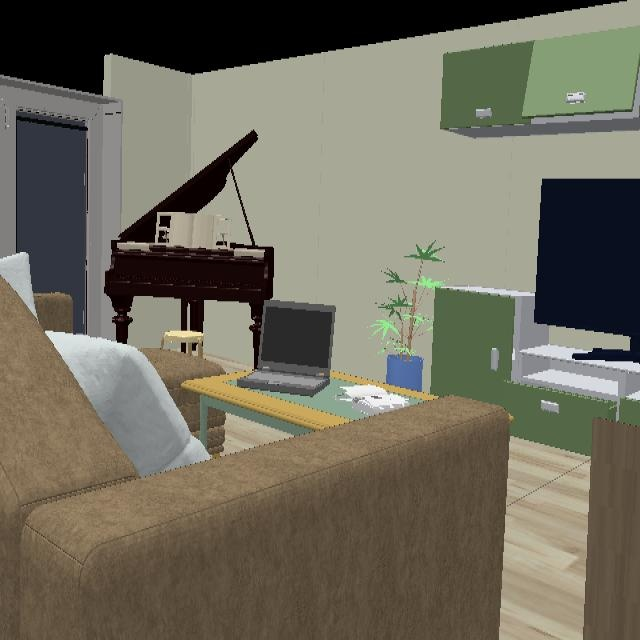book: (342, 385, 420, 416)
cabinet: (432, 288, 640, 457), (440, 25, 640, 137)
laptop: (244, 300, 337, 396)
monitor: (533, 177, 640, 357)
pillow: (44, 331, 211, 479), (0, 252, 38, 321)
sofa: (0, 276, 513, 632), (582, 419, 640, 632)
table: (181, 376, 424, 432)
